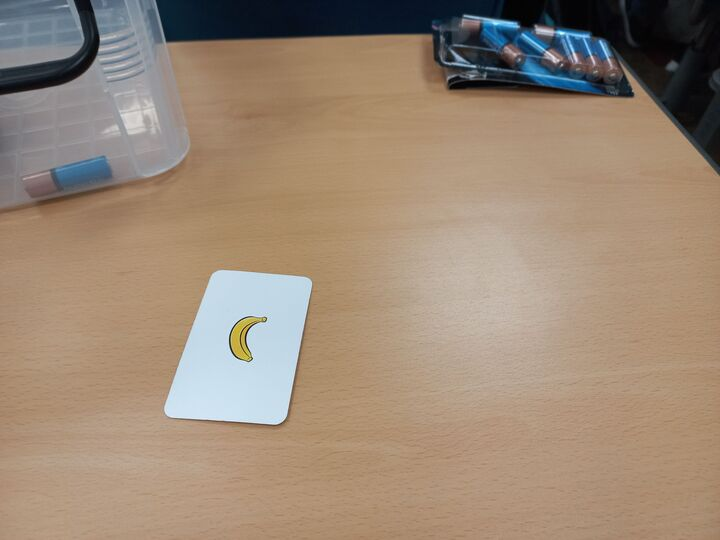banana1: (163, 268, 314, 426)
